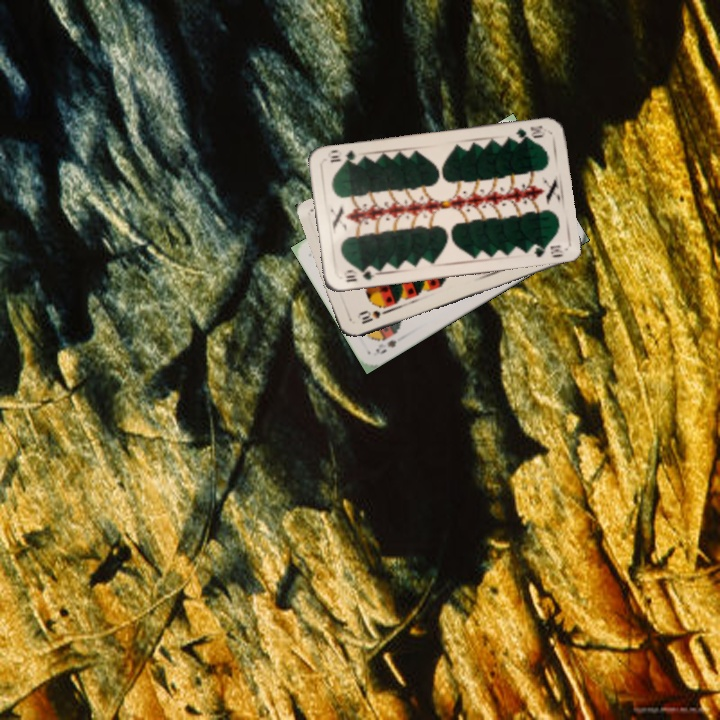G10: (512, 121, 548, 142), (341, 264, 378, 284)
S10: (354, 306, 391, 327)
SO: (371, 336, 399, 357)
